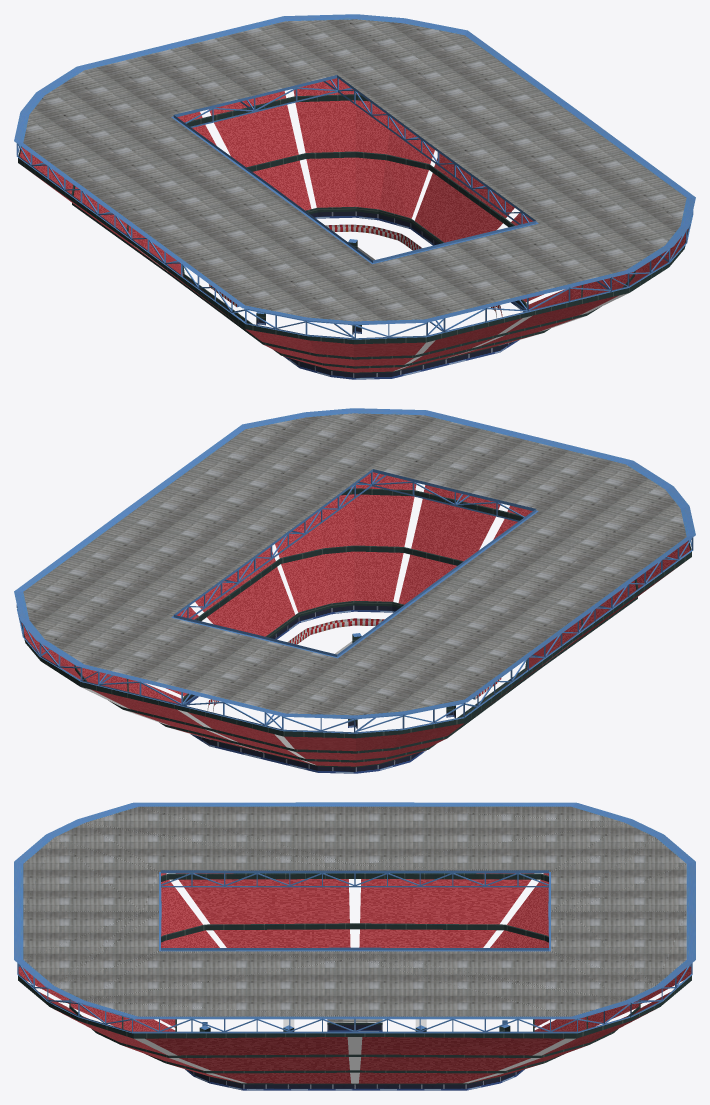
Rendered from arena.glb.
The picture shows the model from 3 angles, top to bottom: view 1: azimuth 30°, elevation 25°; view 2: azimuth 150°, elevation 25°; view 3: azimuth 270°, elevation 25°; orthographic projection. The views are drawn at different scales.
Visible parts, largest first — view 1: mesh_7, mesh_6, mesh_2, mesh_8, mesh_4, mesh_1; view 2: mesh_7, mesh_6, mesh_2, mesh_8, mesh_4, mesh_1; view 3: mesh_7, mesh_6, mesh_2, mesh_8, mesh_1.
Part boxes in pixels (bbox=[...]): mesh_7: bbox=[23, 19, 686, 321]; mesh_6: bbox=[19, 78, 688, 372]; mesh_2: bbox=[14, 14, 695, 339]; mesh_8: bbox=[18, 94, 688, 379]; mesh_4: bbox=[209, 224, 502, 318]; mesh_1: bbox=[31, 172, 628, 371]; mesh_7: bbox=[23, 413, 686, 715]; mesh_6: bbox=[21, 472, 690, 766]; mesh_2: bbox=[14, 408, 695, 733]; mesh_8: bbox=[21, 488, 691, 773]; mesh_4: bbox=[207, 618, 501, 712]; mesh_1: bbox=[81, 566, 678, 765]; mesh_7: bbox=[23, 806, 686, 1022]; mesh_6: bbox=[18, 873, 691, 1083]; mesh_2: bbox=[14, 802, 695, 1033]; mesh_8: bbox=[18, 873, 691, 1090]; mesh_1: bbox=[134, 1019, 575, 1083].
Bounding box in the file's own units: 283 × 80.22 × 378.
5 materials, 5 textured.
